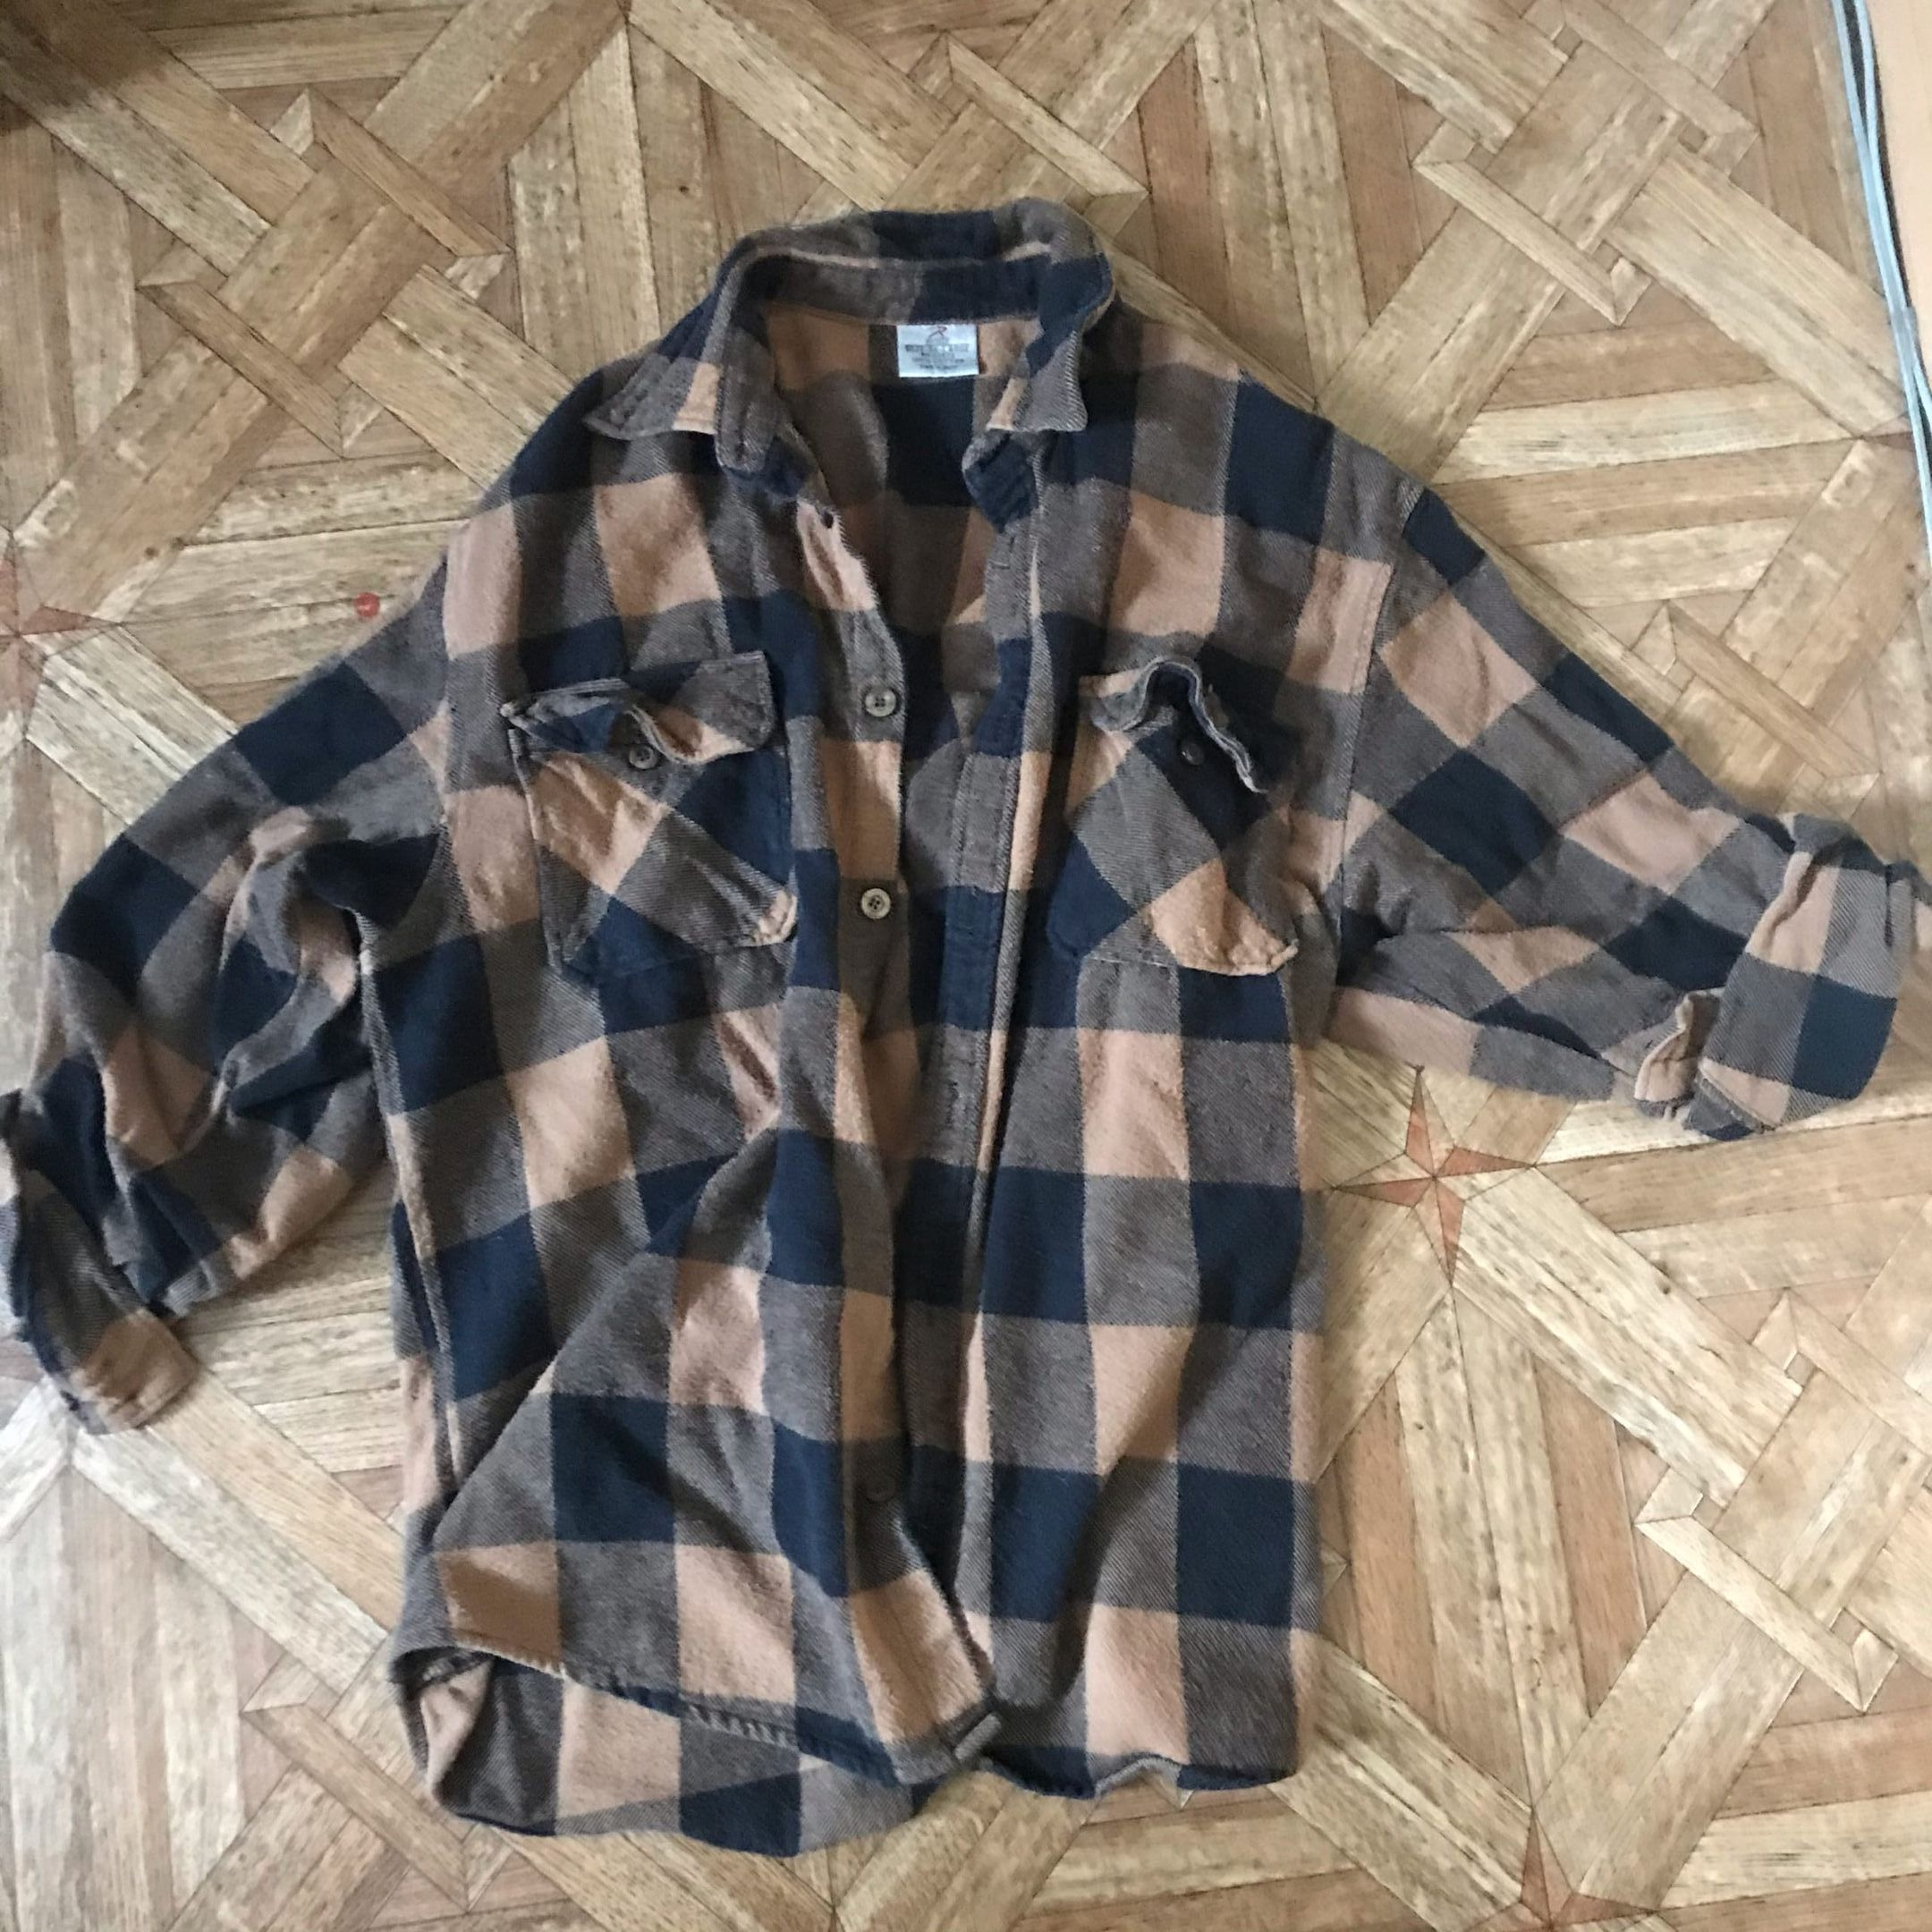clothes: (60, 205, 1898, 1821)
